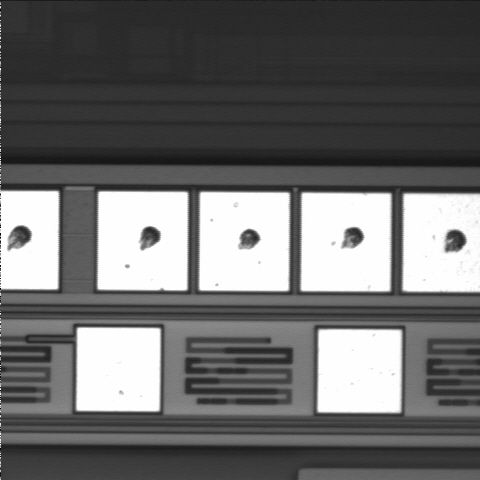pad: (199, 192, 289, 291), (98, 192, 188, 290), (301, 193, 391, 291), (318, 329, 401, 413), (77, 328, 160, 411)
